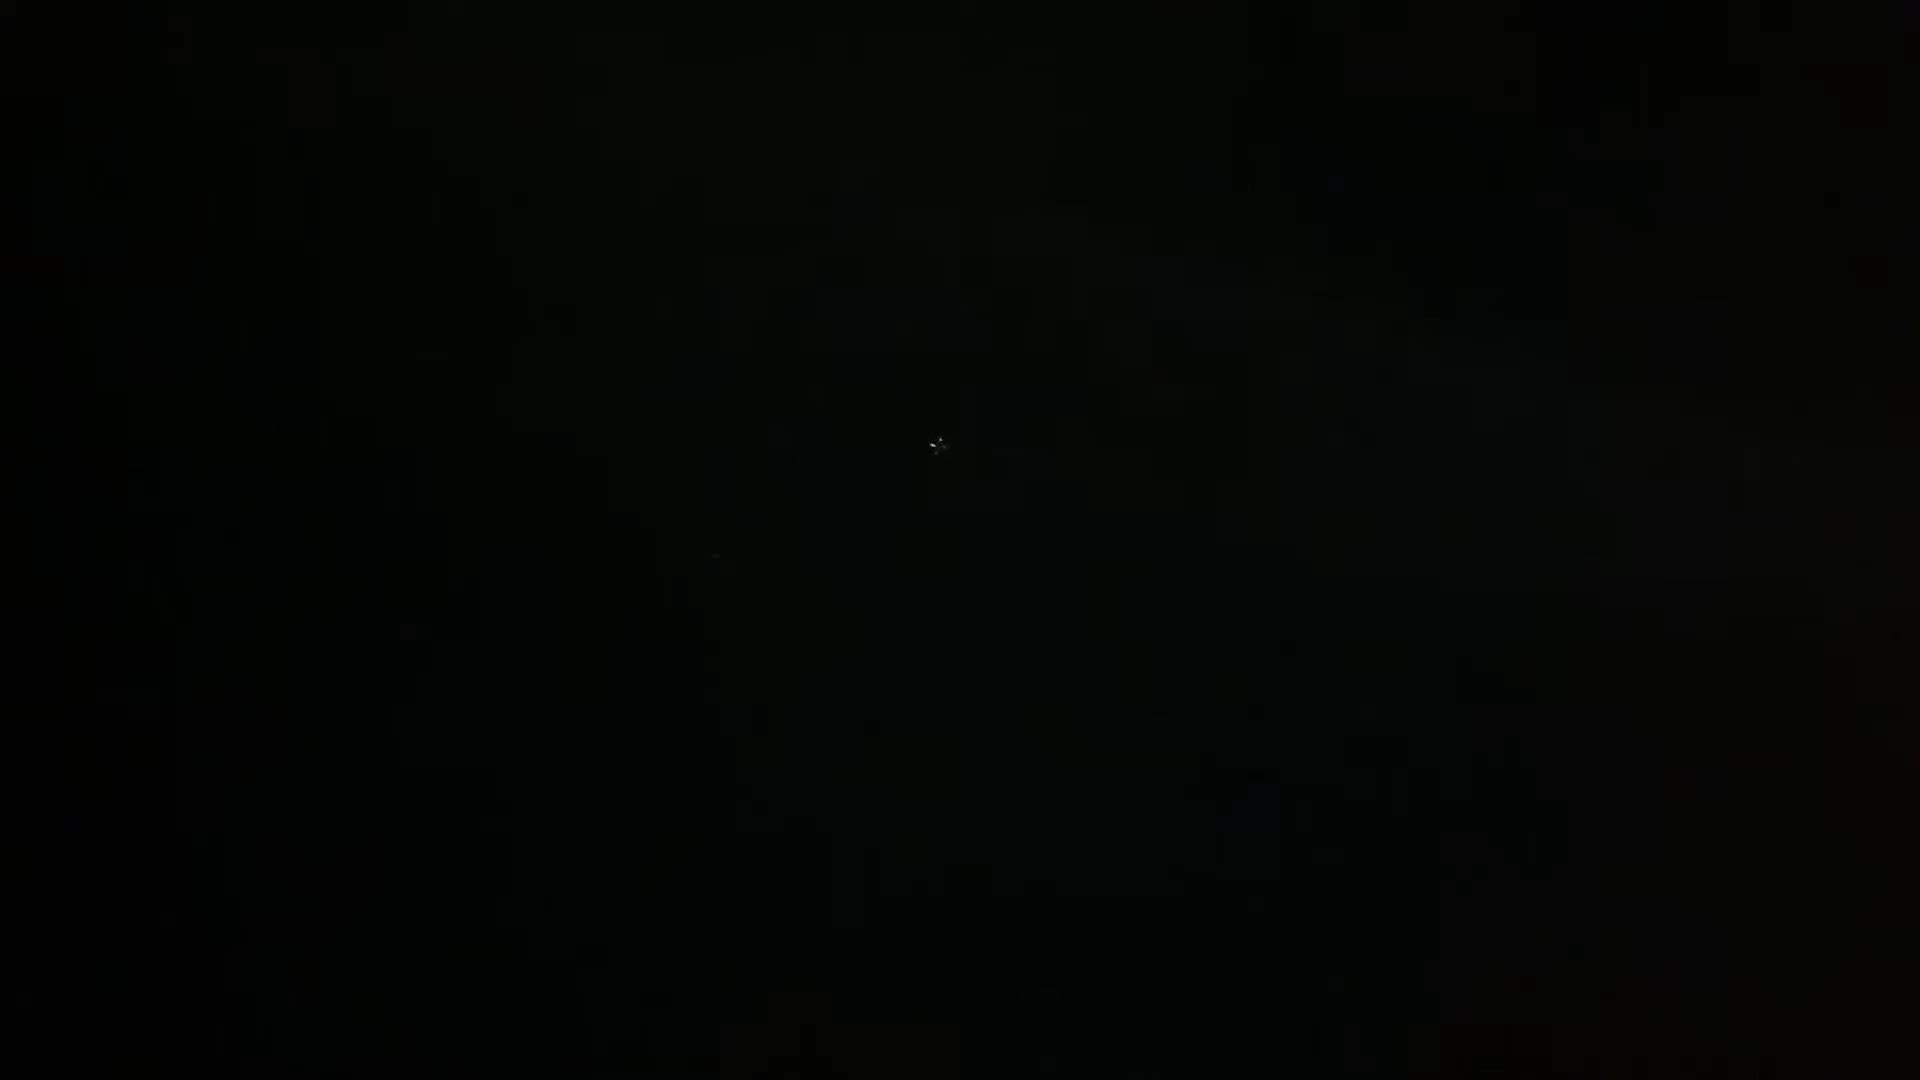Plane: (918, 426, 961, 465)
